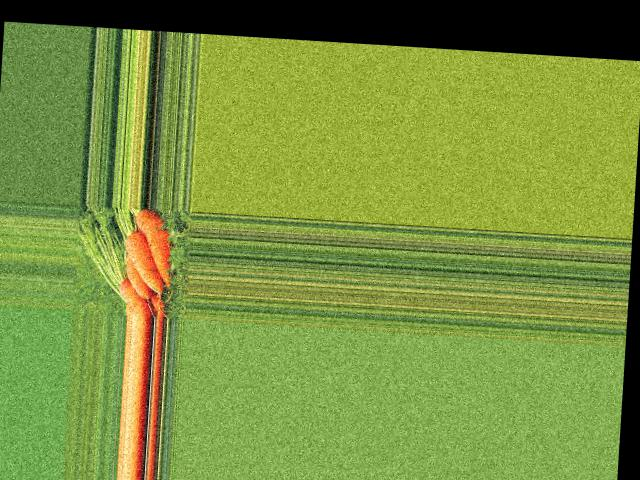carrot: (114, 278, 156, 314)
